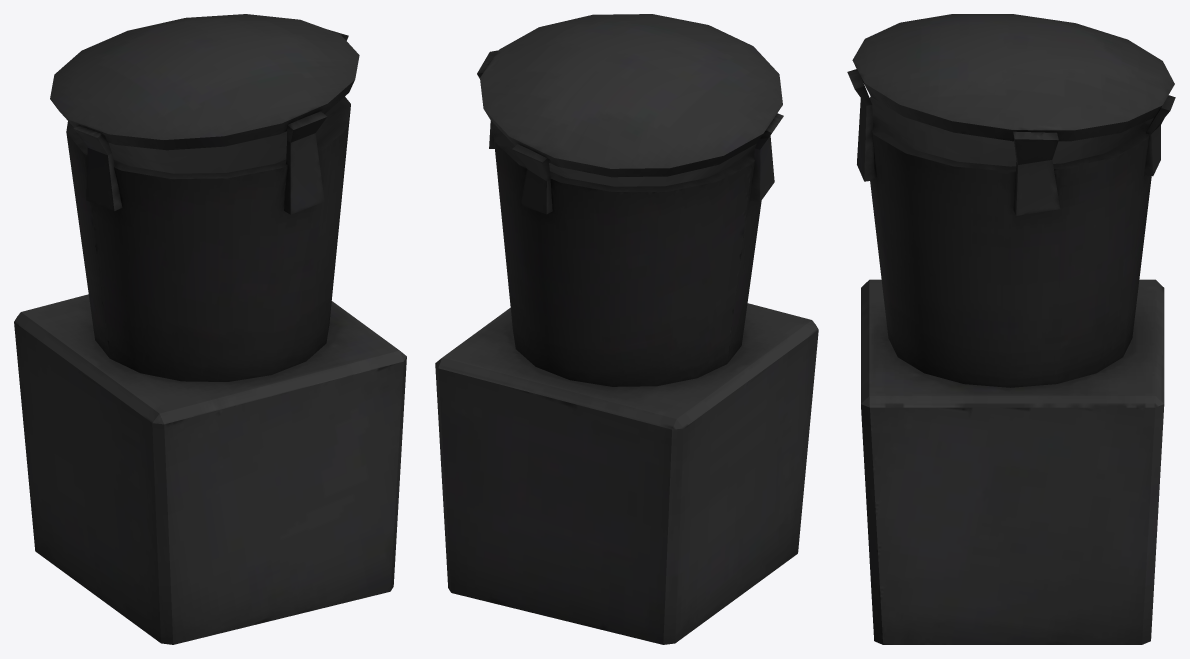
3 views of the same model, side by side, from view 1: azimuth 30°, elevation 25°; view 2: azimuth 150°, elevation 25°; view 3: azimuth 270°, elevation 25° (orthographic). The views are drawn at different scales.
Visible parts, largest first — view 1: body0_model0_lod0_mesh0; view 2: body0_model0_lod0_mesh0; view 3: body0_model0_lod0_mesh0.
Boxes of the visible parts, left/top/right/bottom form: body0_model0_lod0_mesh0: left=14, top=14, right=406, bottom=644; body0_model0_lod0_mesh0: left=435, top=14, right=818, bottom=644; body0_model0_lod0_mesh0: left=847, top=14, right=1175, bottom=644.
Size of the model in its own units: 36.19 by 64.72 by 35.37.
1 material, 1 textured.
